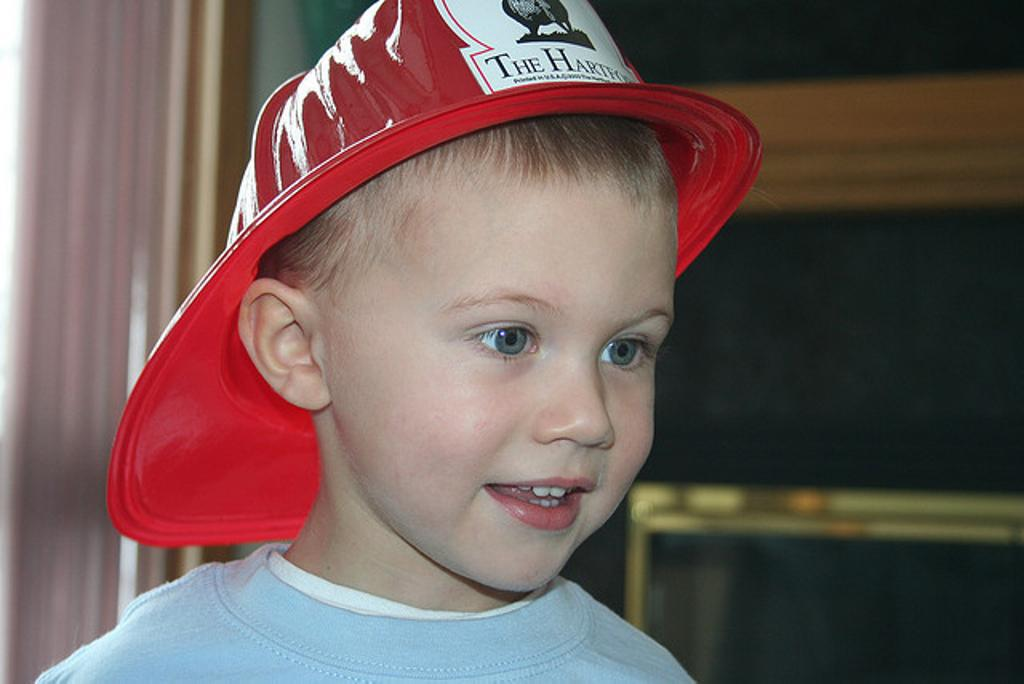face: (329, 135, 673, 593)
